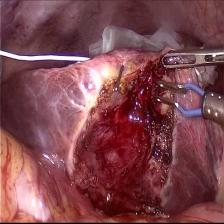Bipolar: (154, 76, 211, 121)
Grasper: (161, 48, 224, 72)
Specimen Bag: (82, 20, 190, 56)
